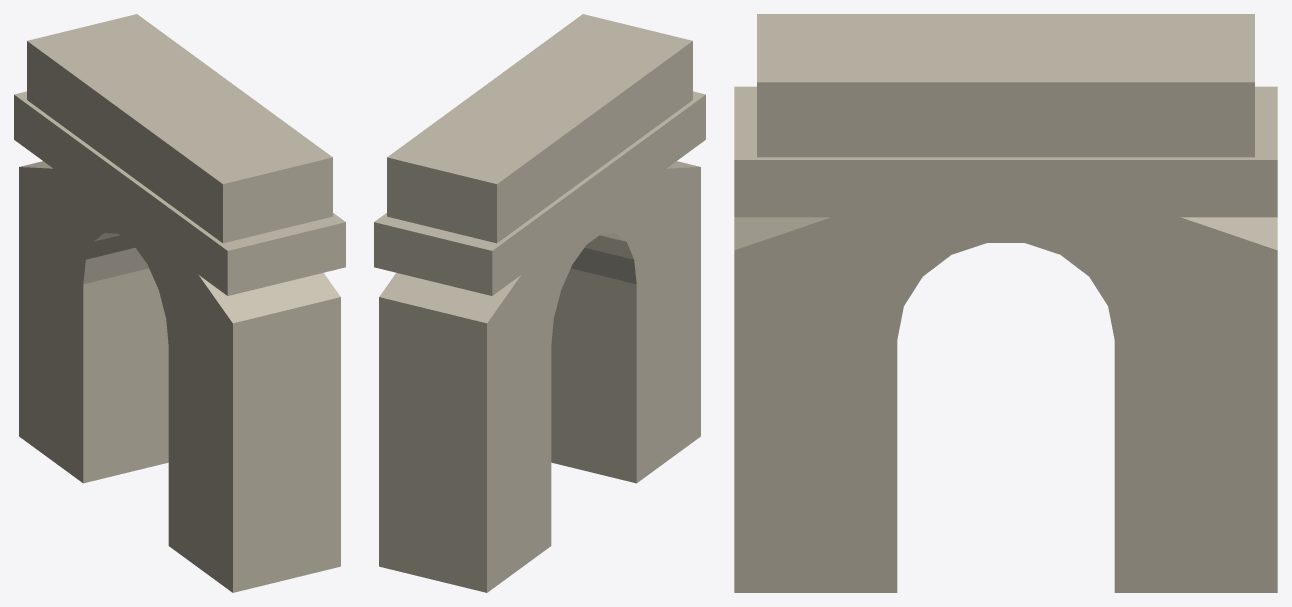
3 renders of one model, left to right at view 1: azimuth 30°, elevation 25°; view 2: azimuth 150°, elevation 25°; view 3: azimuth 270°, elevation 25°, orthographic. The views are drawn at different scales.
Visible parts, largest first — view 1: part12, part0, part1, part11, part10, part9, part2, part3, part4, part8, part5, part7; view 2: part12, part1, part0, part11, part2, part3, part10, part9, part8, part4, part7, part5; view 3: part12, part0, part1, part11, part2, part10, part3, part9, part4, part8, part5, part7 (+1 smaller).
Boxes of the visible parts, <box> form: part12: <box>27,14,332,243</box>; part0: <box>168,347,340,592</box>; part1: <box>19,237,168,483</box>; part11: <box>14,91,345,295</box>; part10: <box>166,297,340,393</box>; part9: <box>159,267,340,323</box>; part2: <box>19,167,148,284</box>; part3: <box>19,161,134,259</box>; part4: <box>64,177,119,241</box>; part8: <box>147,244,187,289</box>; part5: <box>96,200,118,233</box>; part7: <box>133,228,155,263</box>; part12: <box>387,14,692,243</box>; part1: <box>379,347,551,592</box>; part0: <box>551,237,700,483</box>; part11: <box>374,91,705,295</box>; part2: <box>379,297,553,393</box>; part3: <box>379,267,560,323</box>; part10: <box>571,167,700,284</box>; part9: <box>585,161,700,259</box>; part8: <box>600,177,655,241</box>; part4: <box>532,244,572,289</box>; part7: <box>601,200,623,233</box>; part5: <box>564,228,586,263</box>; part12: <box>757,14,1254,157</box>; part0: <box>734,340,897,592</box>; part1: <box>1114,340,1277,592</box>; part11: <box>734,86,1277,217</box>; part2: <box>1108,250,1277,339</box>; part10: <box>734,250,903,339</box>; part3: <box>1089,217,1277,306</box>; part9: <box>734,217,922,306</box>; part4: <box>1060,217,1166,276</box>; part8: <box>845,217,951,276</box>; part5: <box>1025,217,1083,254</box>; part7: <box>928,217,986,254</box>.
Bounding box in the file's own units: 1.15 × 3.74 × 3.6.
